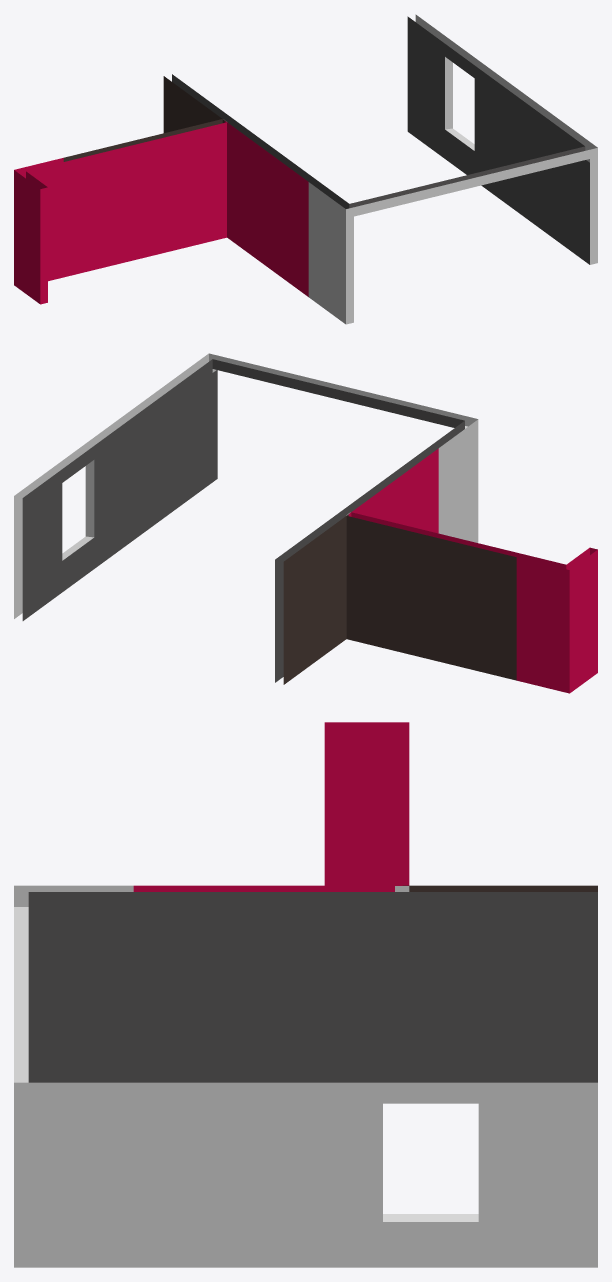
Rendered from Pared 5.fbx.
3 views of the same model, one above another, from view 1: azimuth 30°, elevation 25°; view 2: azimuth 150°, elevation 25°; view 3: azimuth 270°, elevation 25° (orthographic). The views are drawn at different scales.
Parts seen in each view (by area): view 1: Pared_5; view 2: Pared_5; view 3: Pared_5.
Boxes of the visible parts, x1,y1,x2,y2 form: Pared_5: (14,14,597,324); Pared_5: (14,353,597,693); Pared_5: (14,722,597,1267).
Size of the model in its own units: 1253 by 300 by 858.
